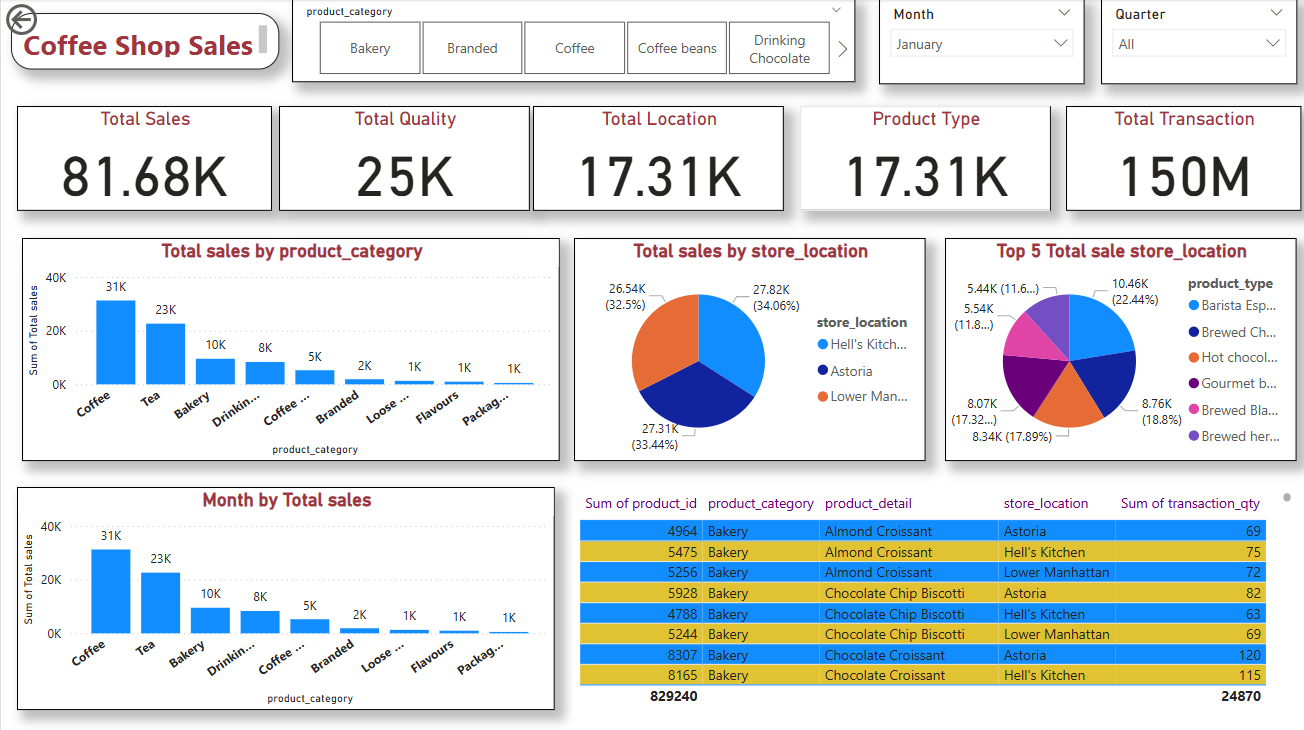

This screenshot's page, from the dashboard's own definition file:
{"tool":"powerbi","page":{"name":"Page 1","canvas":[1280,720],"ordinal":0},"visuals":[{"type":"textbox","box":[9.4,13.2,260.8,54.8],"z":0},{"type":"slicer","fields":{"Values":["Table1.product_category"]},"box":[283.5,0,548,81.3],"z":1000},{"type":"slicer","fields":{"Values":["Table1.transaction_date.Variation.Date Hierarchy.Month"]},"box":[854.2,0,200.3,83.2],"z":2000},{"type":"slicer","fields":{"Values":["Table1.transaction_date.Variation.Date Hierarchy.Quarter"]},"box":[1069.6,0,190.9,83.2],"z":3000},{"type":"card","title":"Total Sales","fields":{"Values":["Sum(Table1.Total sales)"]},"box":[15.1,103.9,247.6,102],"z":4000},{"type":"card","title":"Total Quality","fields":{"Values":["Sum(Table1.transaction_qty)"]},"box":[270.2,103.9,243.8,102],"z":5000},{"type":"card","title":"Total Location","fields":{"Values":["CountNonNull(Table1.store_location)"]},"box":[517.8,103.9,243.8,102],"z":6000},{"type":"card","title":"Product Type","fields":{"Values":["CountNonNull(Table1.product_type)"]},"box":[776.7,103.9,243.8,102],"z":7000},{"type":"card","title":"Total Transaction","fields":{"Values":["Sum(Table1.transaction_id)"]},"box":[1035.6,103.9,228.7,102],"z":8000},{"type":"clusteredColumnChart","title":"Total sales by product_category","fields":{"Y":["Sum(Table1.Total sales)"],"Category":["Table1.product_category"]},"box":[20.8,232.4,523.5,217.3],"z":9000},{"type":"clusteredColumnChart","title":"Month by Total sales","fields":{"Y":["Sum(Table1.Total sales)"],"Category":["Table1.product_category"]},"box":[15.1,474.3,523.5,217.3],"z":10000},{"type":"pieChart","title":" Total sales by store_location","fields":{"Y":["Sum(Table1.Total sales)"],"Category":["Table1.store_location"]},"box":[557.5,232.4,342,217.3],"z":11000},{"type":"pieChart","title":" Top 5 Total sale store_location","fields":{"Category":["Table1.product_type","Table1.product_id"],"Y":["Sum(Table1.Total sales)"]},"box":[918.4,232.4,342,217.3],"z":12000},{"type":"tableEx","fields":{"Values":["Sum(Table1.product_id)","Table1.product_category","Table1.product_detail","Table1.store_location","Sum(Table1.transaction_qty)"]},"box":[557.5,474.3,703,217.3],"z":13000},{"type":"actionButton","box":[0,0,100,40],"z":14000}]}

Visuals, with their boxes in screenshot pixels (x1, y1, x2, y2), scaled from the page's 1280x720 canvas onto the 1304x730 screenshot:
textbox: [10, 13, 275, 69]
slicer - Table1.product_category: [289, 0, 847, 82]
slicer - Table1.transaction_date.Variation.Date Hierarchy.Month: [870, 0, 1074, 84]
slicer - Table1.transaction_date.Variation.Date Hierarchy.Quarter: [1090, 0, 1284, 84]
"Total Sales" card: [15, 105, 268, 209]
"Total Quality" card: [275, 105, 524, 209]
"Total Location" card: [528, 105, 776, 209]
"Product Type" card: [791, 105, 1040, 209]
"Total Transaction" card: [1055, 105, 1288, 209]
"Total sales by product_category" clusteredColumnChart: [21, 236, 555, 456]
"Month by Total sales" clusteredColumnChart: [15, 481, 549, 701]
" Total sales by store_location" pieChart: [568, 236, 916, 456]
" Top 5 Total sale store_location" pieChart: [936, 236, 1284, 456]
tableEx - Sum(Table1.product_id) x Table1.product_category: [568, 481, 1284, 701]
actionButton: [0, 0, 102, 41]
